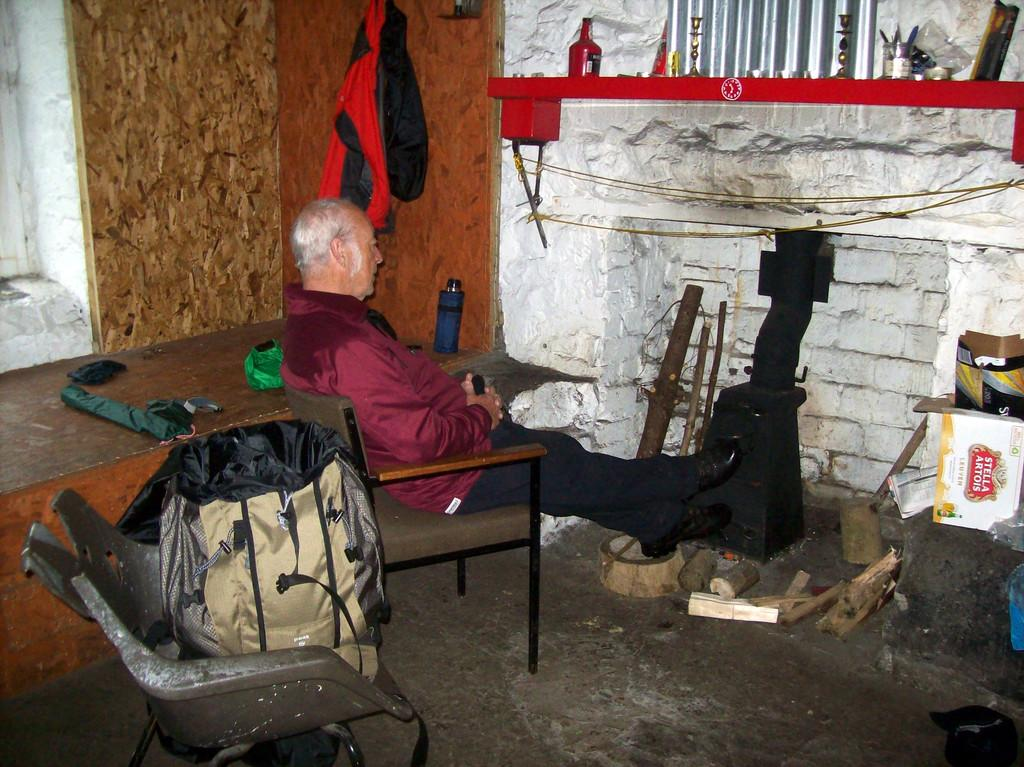Luggage-and-bags: (120, 420, 376, 700)
